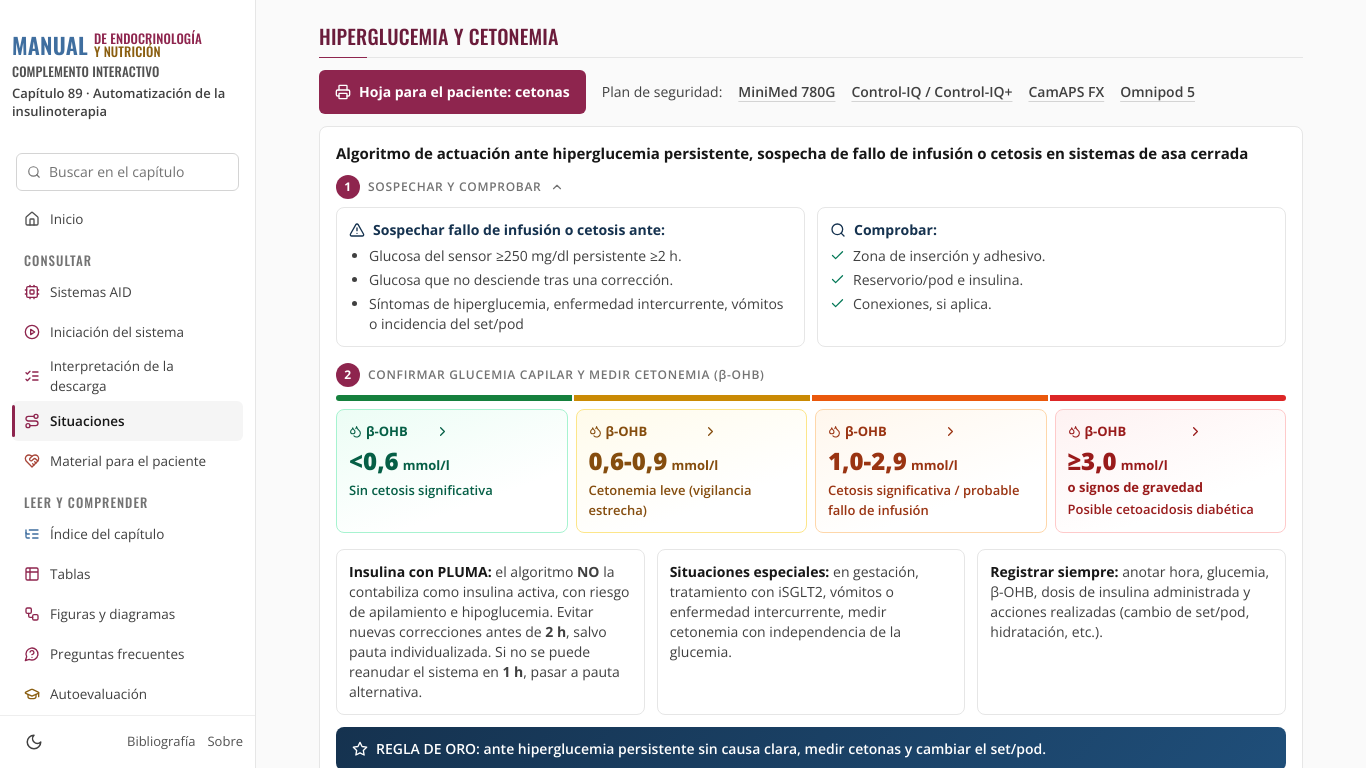
Test: App › la Figura 3 como recorrido muestra solo la rama elegida
The width and height of the screenshot is (1366, 768).
expect the element named "Tramo de cetonemia" is shown: met, box left=336, top=409, right=1286, bottom=533
Click the button "β-OHB 1,0-2,9 mmol/l": (931, 471) left=815, top=409, right=1046, bottom=533
(page scrolled)
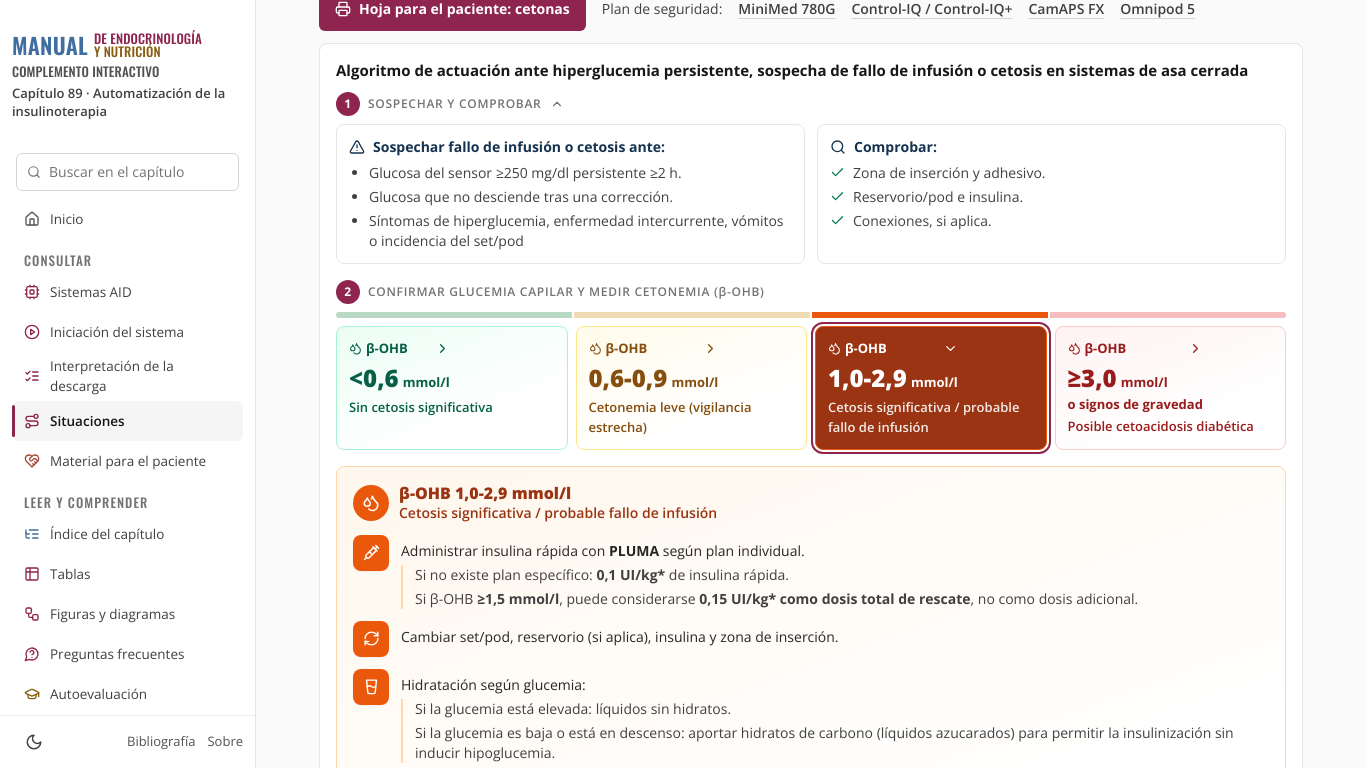
expect the button "β-OHB ≥3,0 mmol/l" is shown: met, box left=1054, top=326, right=1286, bottom=450
expect the text "0,1 UI/kg*" is shown: met, box left=596, top=565, right=665, bottom=584
